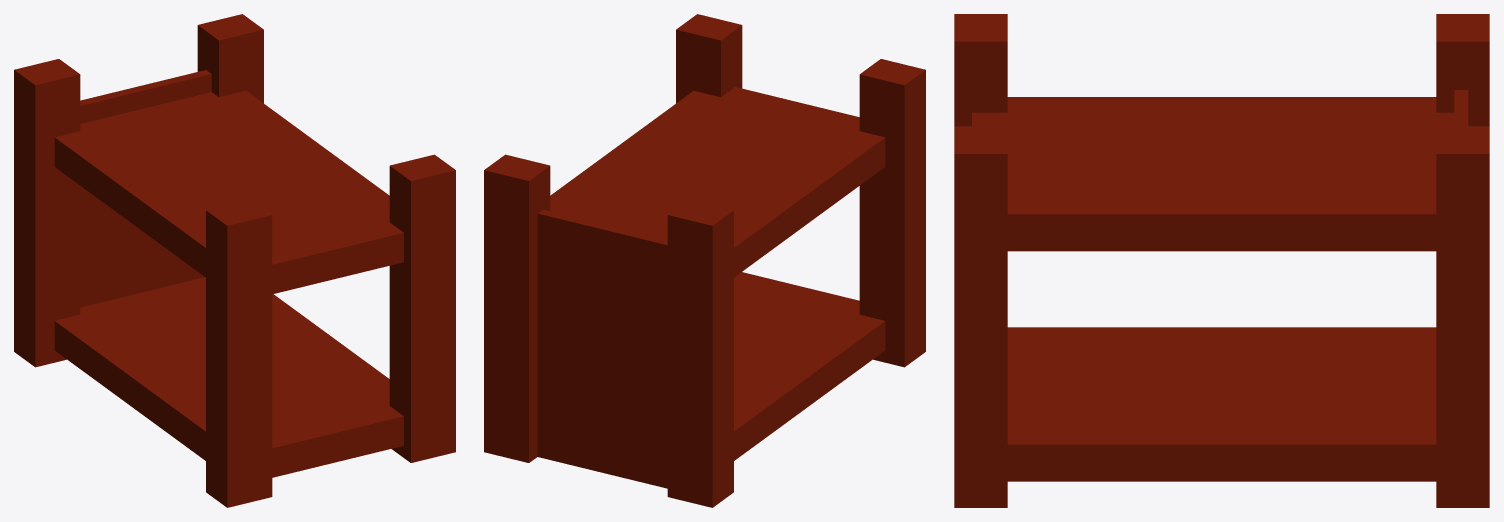
Rendered from Bed.FBX.
3 renders of one model, left to right at view 1: azimuth 30°, elevation 25°; view 2: azimuth 150°, elevation 25°; view 3: azimuth 270°, elevation 25°, orthographic. The views are drawn at different scales.
Visible parts, largest first — view 1: Box001; view 2: Box001; view 3: Box001.
Boxes of the visible parts, left/top/right/bottom form: Box001: left=14, top=14, right=455, bottom=507; Box001: left=484, top=14, right=925, bottom=507; Box001: left=954, top=14, right=1489, bottom=507.
Bounding box in the file's own units: 46.11 × 74.56 × 54.39.
